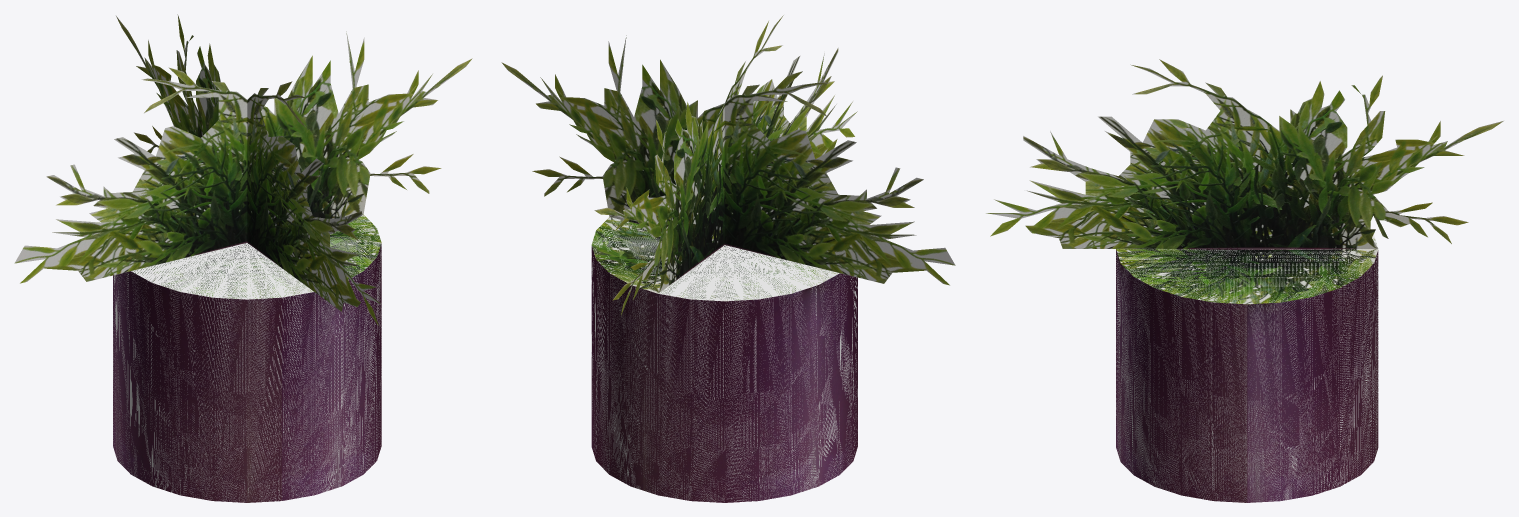
Rendered from flower_in_pot1.dae.
The picture shows the model from 3 angles, left to right: view 1: azimuth 30°, elevation 25°; view 2: azimuth 150°, elevation 25°; view 3: azimuth 270°, elevation 25°; orthographic projection. The views are drawn at different scales.
Parts seen in each view (by area): view 1: SketchUp (×3); view 2: SketchUp (×3); view 3: SketchUp (×3).
Boxes of the visible parts, x1=… form: SketchUp (×3): x1=14, y1=14, x2=472, y2=502; SketchUp (×3): x1=501, y1=15, x2=955, y2=502; SketchUp (×3): x1=986, y1=59, x2=1503, y2=502.
Size of the model in its own units: 0.2948 by 0.2968 by 0.2447.
6 materials, 4 textured.
